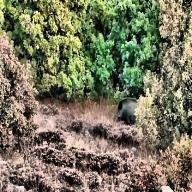boar: (115, 88, 146, 122)
